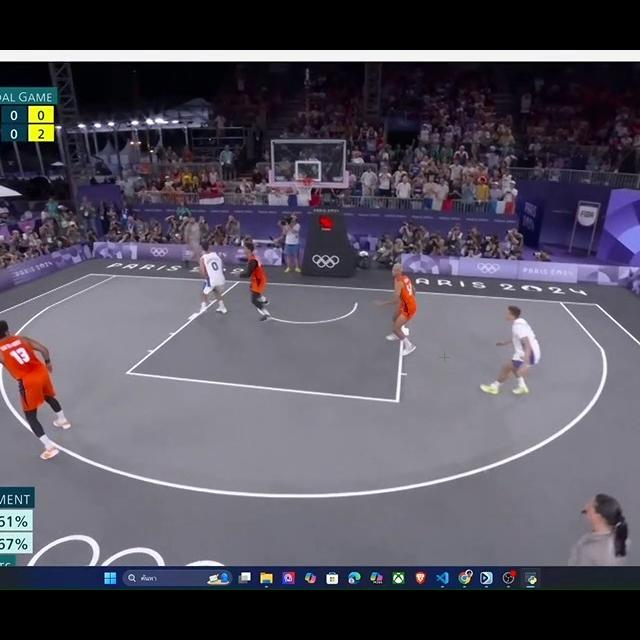hoop: (293, 174, 314, 205)
